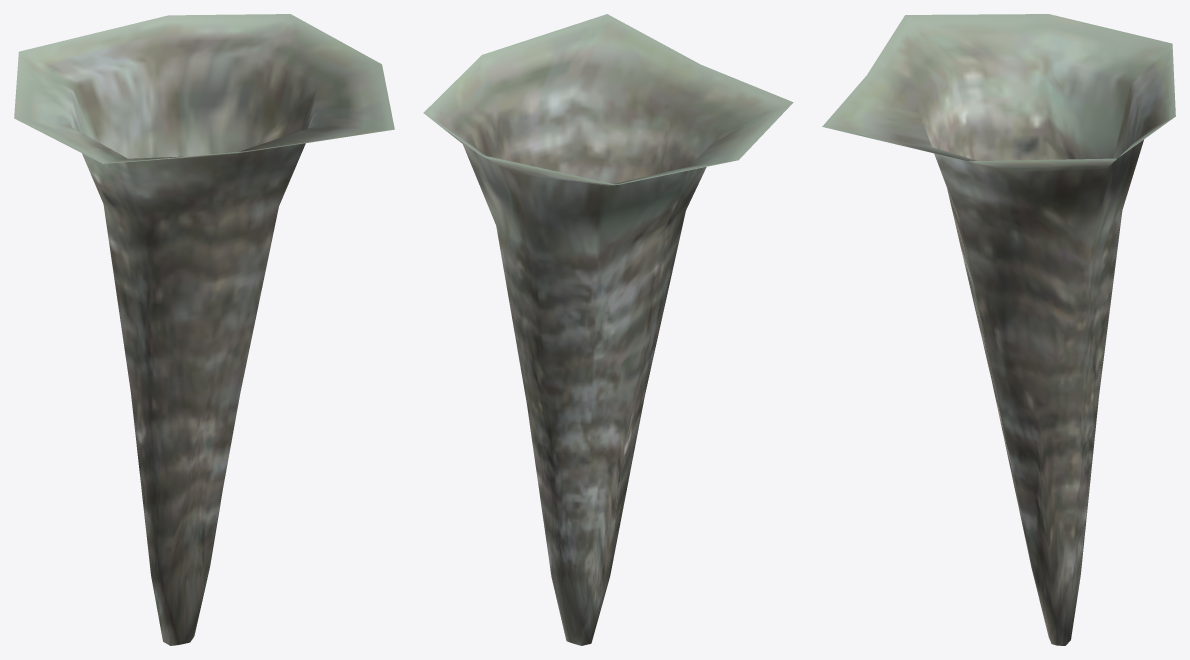
File: TROLLHOLE02_PS-MAINSTALAG87.fbx
The picture shows the model from 3 angles, left to right: view 1: azimuth 30°, elevation 25°; view 2: azimuth 150°, elevation 25°; view 3: azimuth 270°, elevation 25°; orthographic projection. The views are drawn at different scales.
Parts seen in each view (by area): view 1: TROLLHOLE02_PS-MAINSTALAG87; view 2: TROLLHOLE02_PS-MAINSTALAG87; view 3: TROLLHOLE02_PS-MAINSTALAG87.
Boxes of the visible parts, x1=… form: TROLLHOLE02_PS-MAINSTALAG87: x1=14, y1=14, x2=394, y2=645; TROLLHOLE02_PS-MAINSTALAG87: x1=423, y1=14, x2=793, y2=645; TROLLHOLE02_PS-MAINSTALAG87: x1=822, y1=14, x2=1175, y2=645.
Size of the model in its own units: 23019 by 39419 by 22522.
Materials: 1 (1 with a texture image).
